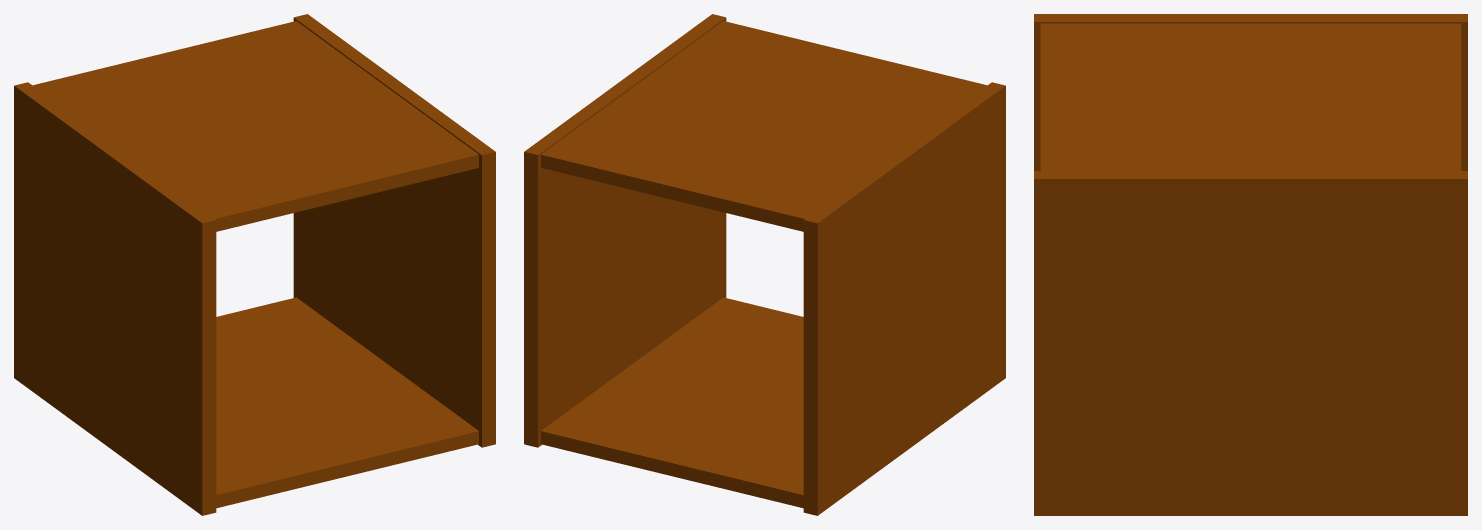
The model's file is FreeBox.fbx.
The picture shows the model from 3 angles, left to right: view 1: azimuth 30°, elevation 25°; view 2: azimuth 150°, elevation 25°; view 3: azimuth 270°, elevation 25°; orthographic projection. The views are drawn at different scales.
Parts seen in each view (by area): view 1: FreeBox; view 2: FreeBox; view 3: FreeBox.
Part boxes in pixels (x1=…): FreeBox: x1=14, y1=14, x2=495, y2=515; FreeBox: x1=524, y1=14, x2=1005, y2=515; FreeBox: x1=1034, y1=14, x2=1467, y2=515.
Bounding box in the file's own units: 0.378 × 0.36 × 0.42.
